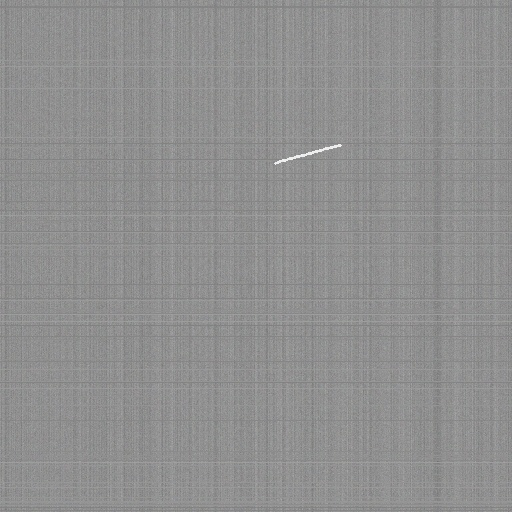scratch: (270, 140, 345, 168)
